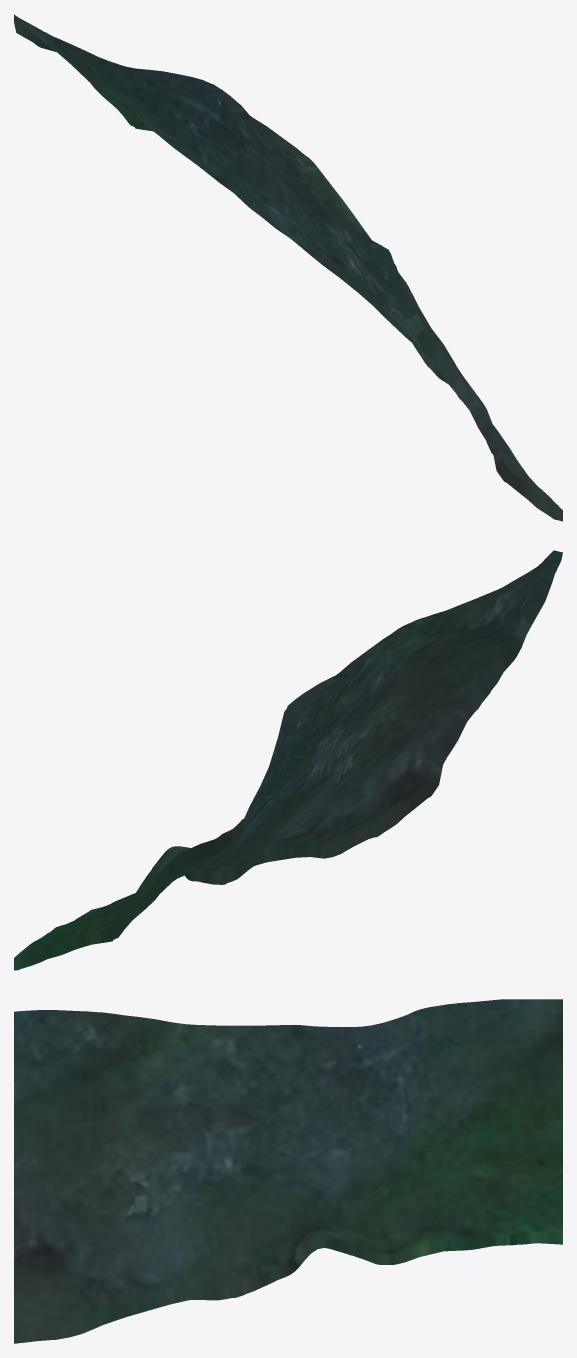
File: z20-167553-405171-h0-yup-uvflip-v3-world.glb
The picture shows the model from 3 angles, top to bottom: view 1: azimuth 30°, elevation 25°; view 2: azimuth 150°, elevation 25°; view 3: azimuth 270°, elevation 25°; orthographic projection. The views are drawn at different scales.
Bounding box in the file's own units: 11.24 × 15.76 × 30.32.
1 material, 1 textured.
